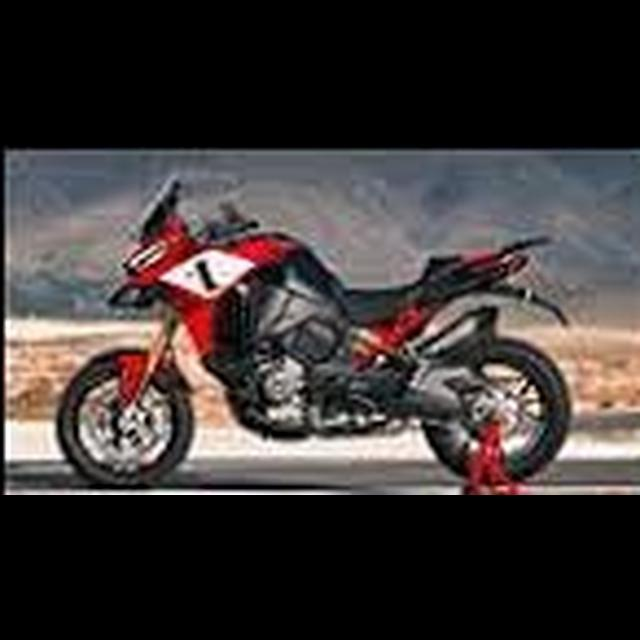motorcycle: (51, 163, 576, 493)
